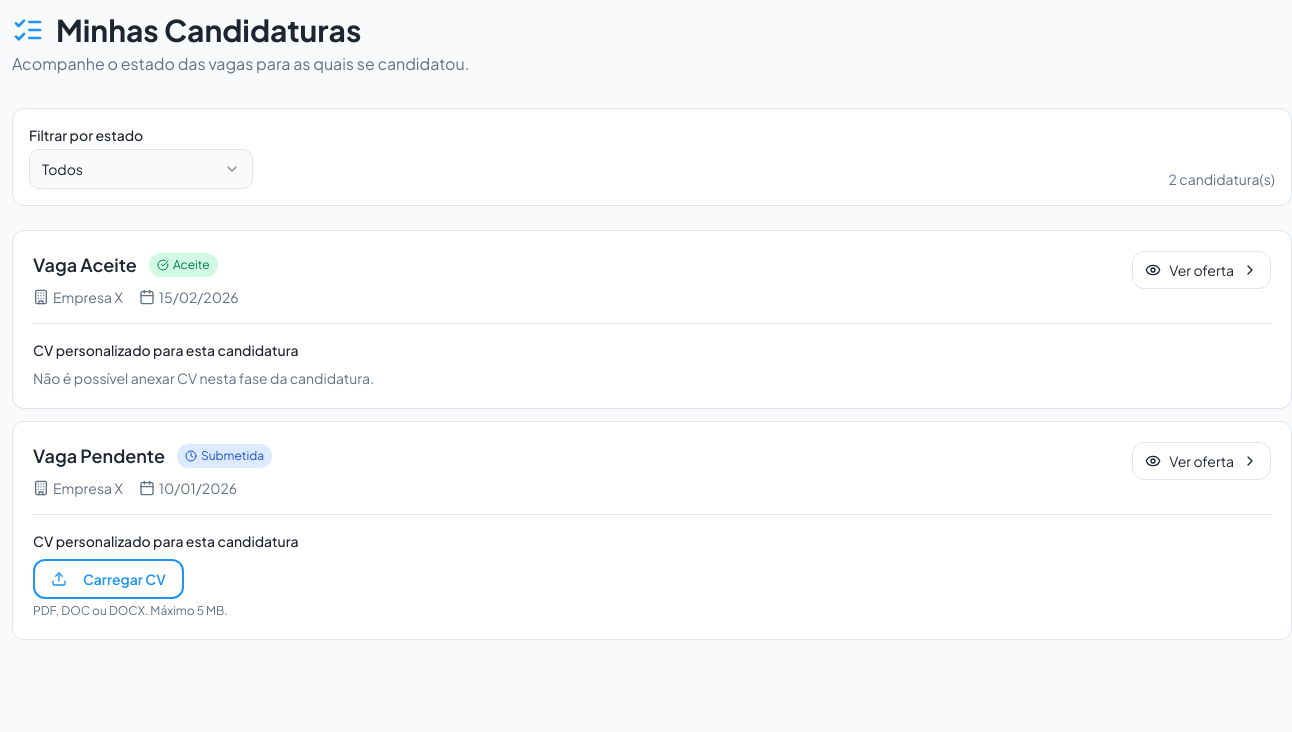
MyApplicationsPage (dashboard/migrante/candidaturas) › filtra por status (mostra só accepted)
Expected: the heading "Vaga Aceite" is shown, [33,251,137,279]
Expected: the heading "Vaga Pendente" is shown, [33,442,165,470]
# Abre o Select e escolhe "Aceite".
Click the dropdown at (141, 169), box [29,149,253,189]
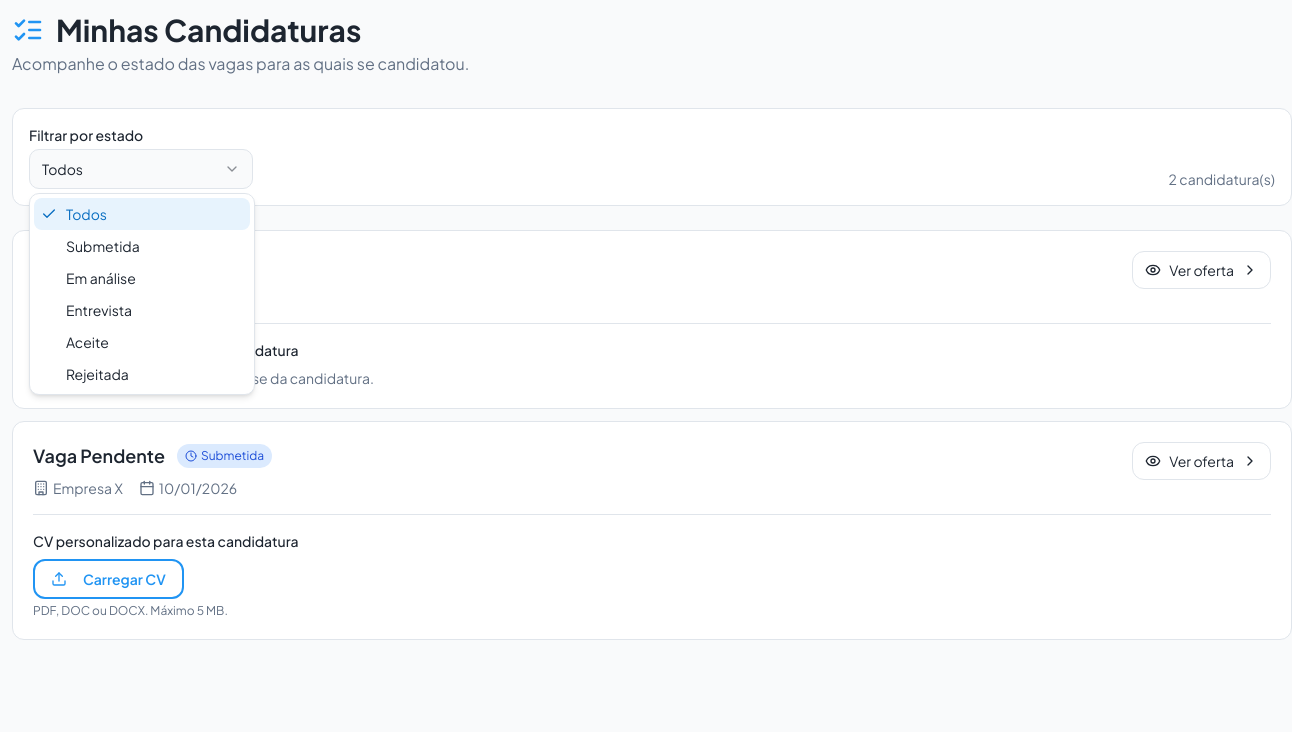
Click the option "Aceite" at (87, 342), box [66,333,109,351]
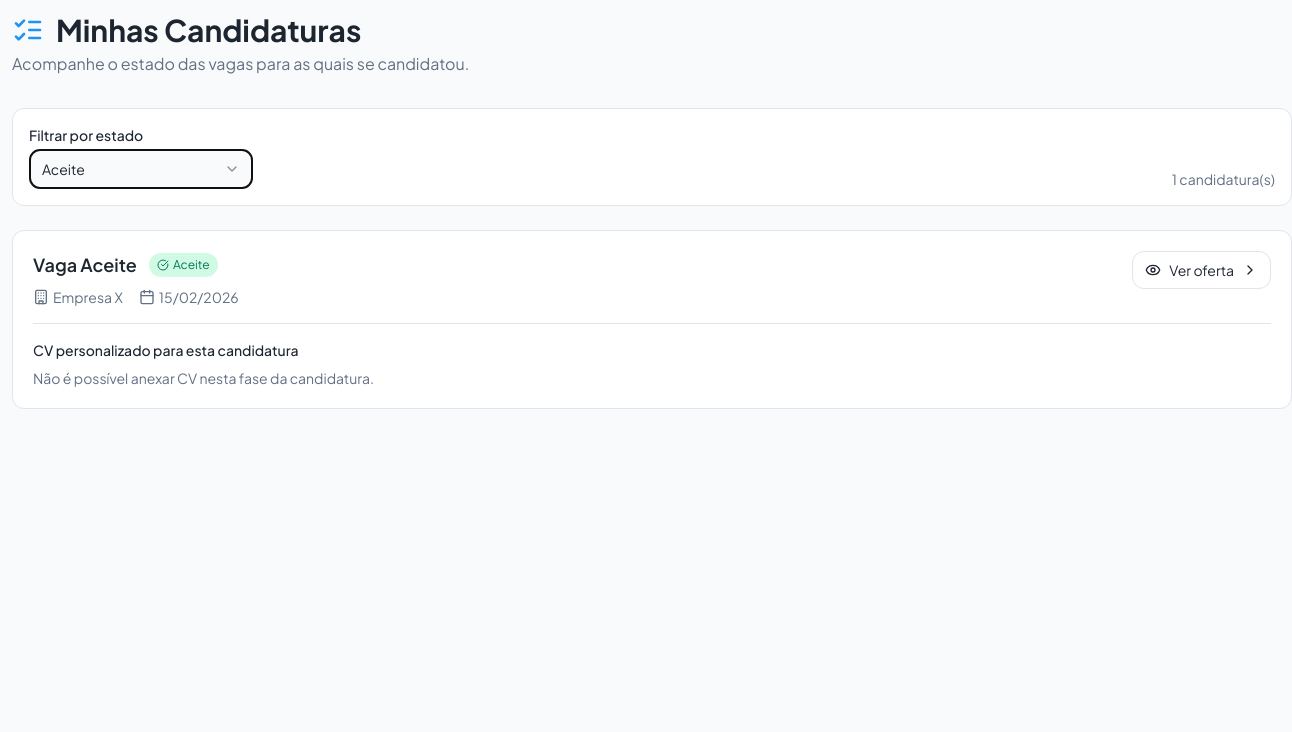
Expected: the heading "Vaga Aceite" is shown, [33,251,137,279]
Expected: the heading "Vaga Pendente" is gone
